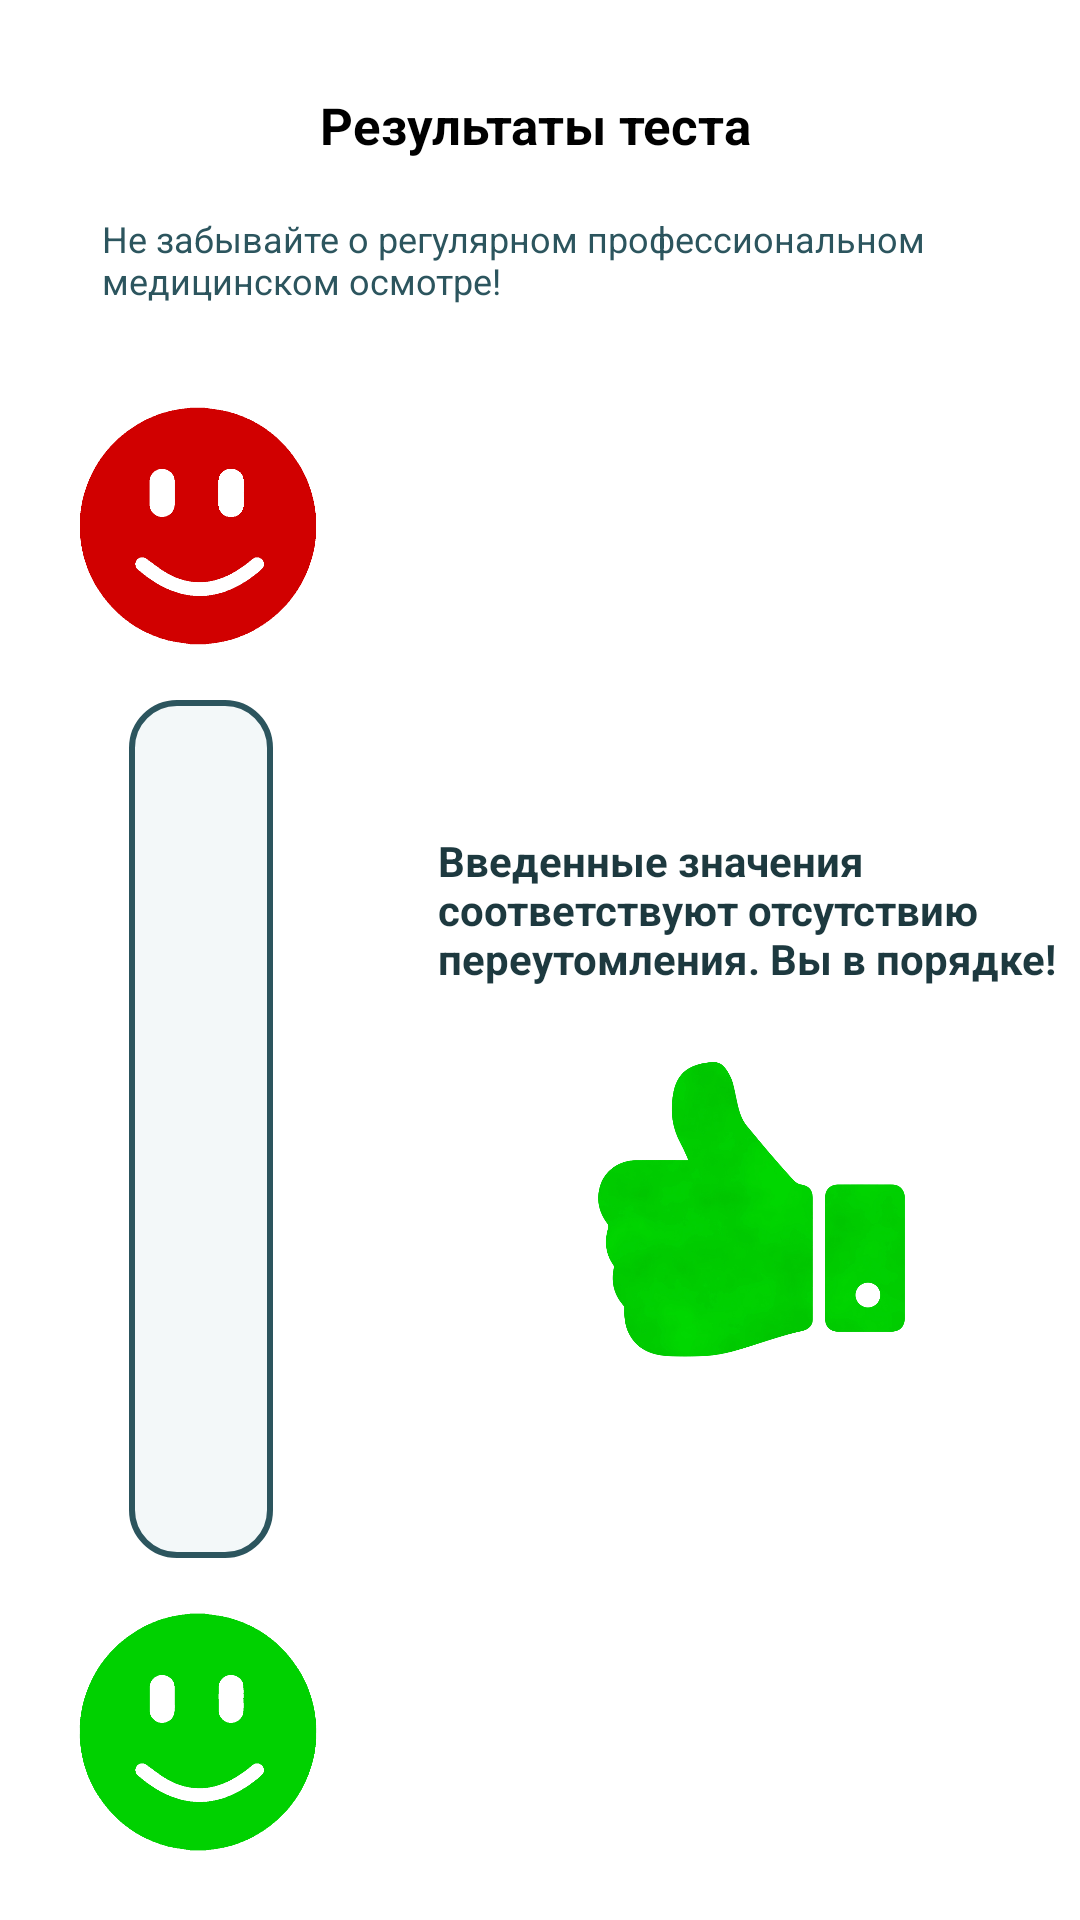

Screen size 1080 × 1920. Icon name, then its center in pixels as (x=x, y=y):
neg: (x=198, y=526)
pos: (x=198, y=1732)
